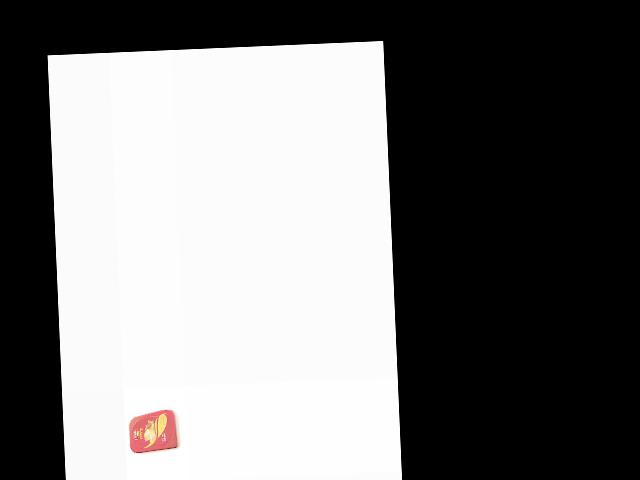cheese: (125, 409, 180, 455)
